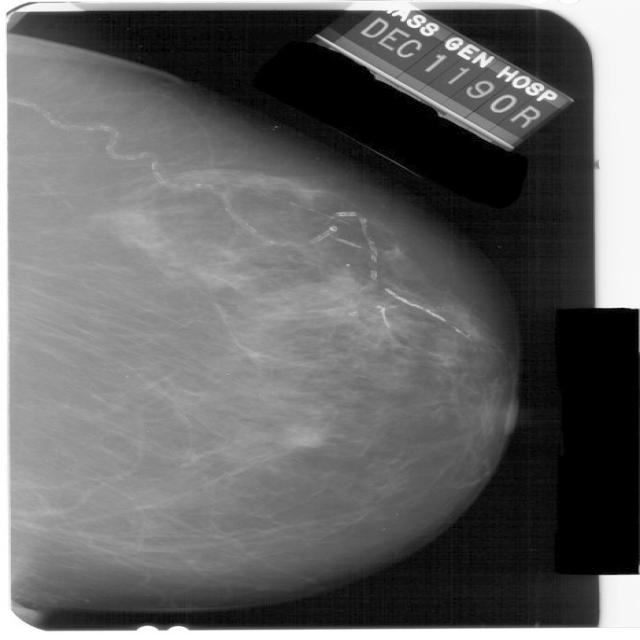tumour: (276, 424, 328, 449)
